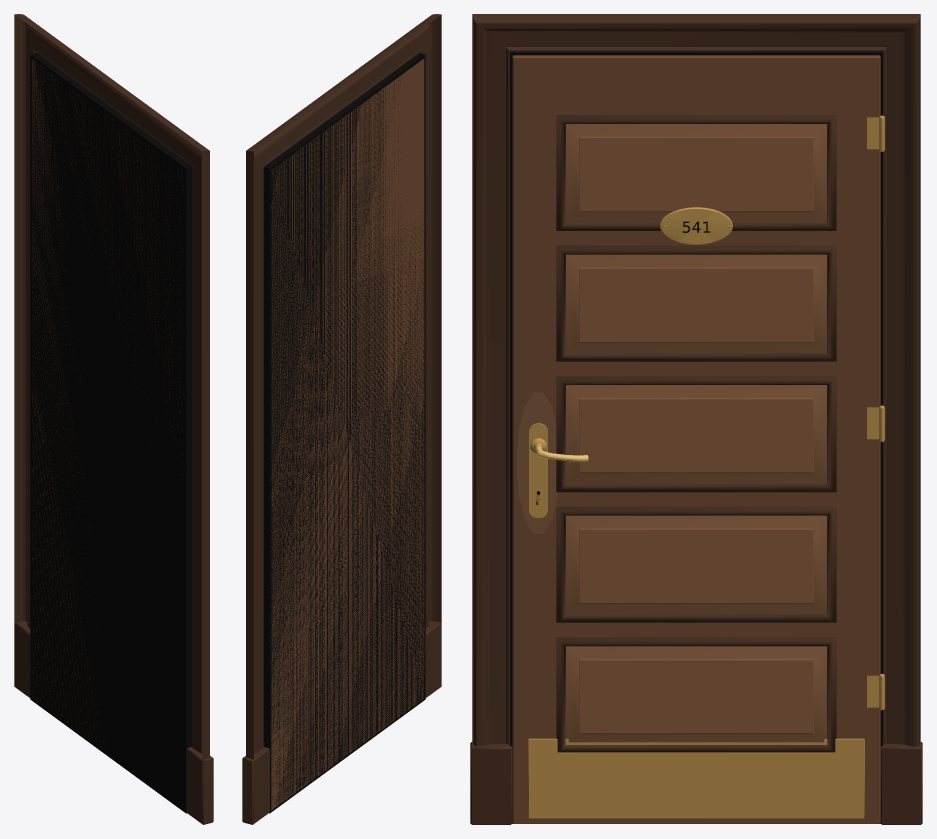
Rendered from hotel_door_d@3.glb.
3 views of the same model, side by side, from view 1: azimuth 30°, elevation 25°; view 2: azimuth 150°, elevation 25°; view 3: azimuth 270°, elevation 25° (orthographic). The views are drawn at different scales.
Visible parts, largest first — view 1: fuge, bekleidung, blatt; view 2: fuge, blatt, bekleidung; view 3: fuellungen, blatt, bekleidung, kehlleisten, beschlag, fuge, abrieb, nummernschild.
Part boxes in pixels (x1,y1,x2,y2): fuge: [30, 53, 192, 813]; bekleidung: [14, 14, 213, 824]; blatt: [31, 59, 184, 752]; fuge: [263, 53, 425, 813]; blatt: [271, 58, 424, 810]; bekleidung: [242, 14, 441, 824]; fuellungen: [566, 124, 826, 742]; blatt: [512, 55, 880, 823]; bekleidung: [470, 14, 922, 824]; kehlleisten: [556, 115, 836, 752]; beschlag: [528, 115, 884, 818]; fuge: [510, 51, 882, 823]; abrieb: [516, 392, 558, 533]; nummernschild: [660, 207, 732, 244].
Size of the model in its own units: 0.1118 by 2.22 by 1.13.
